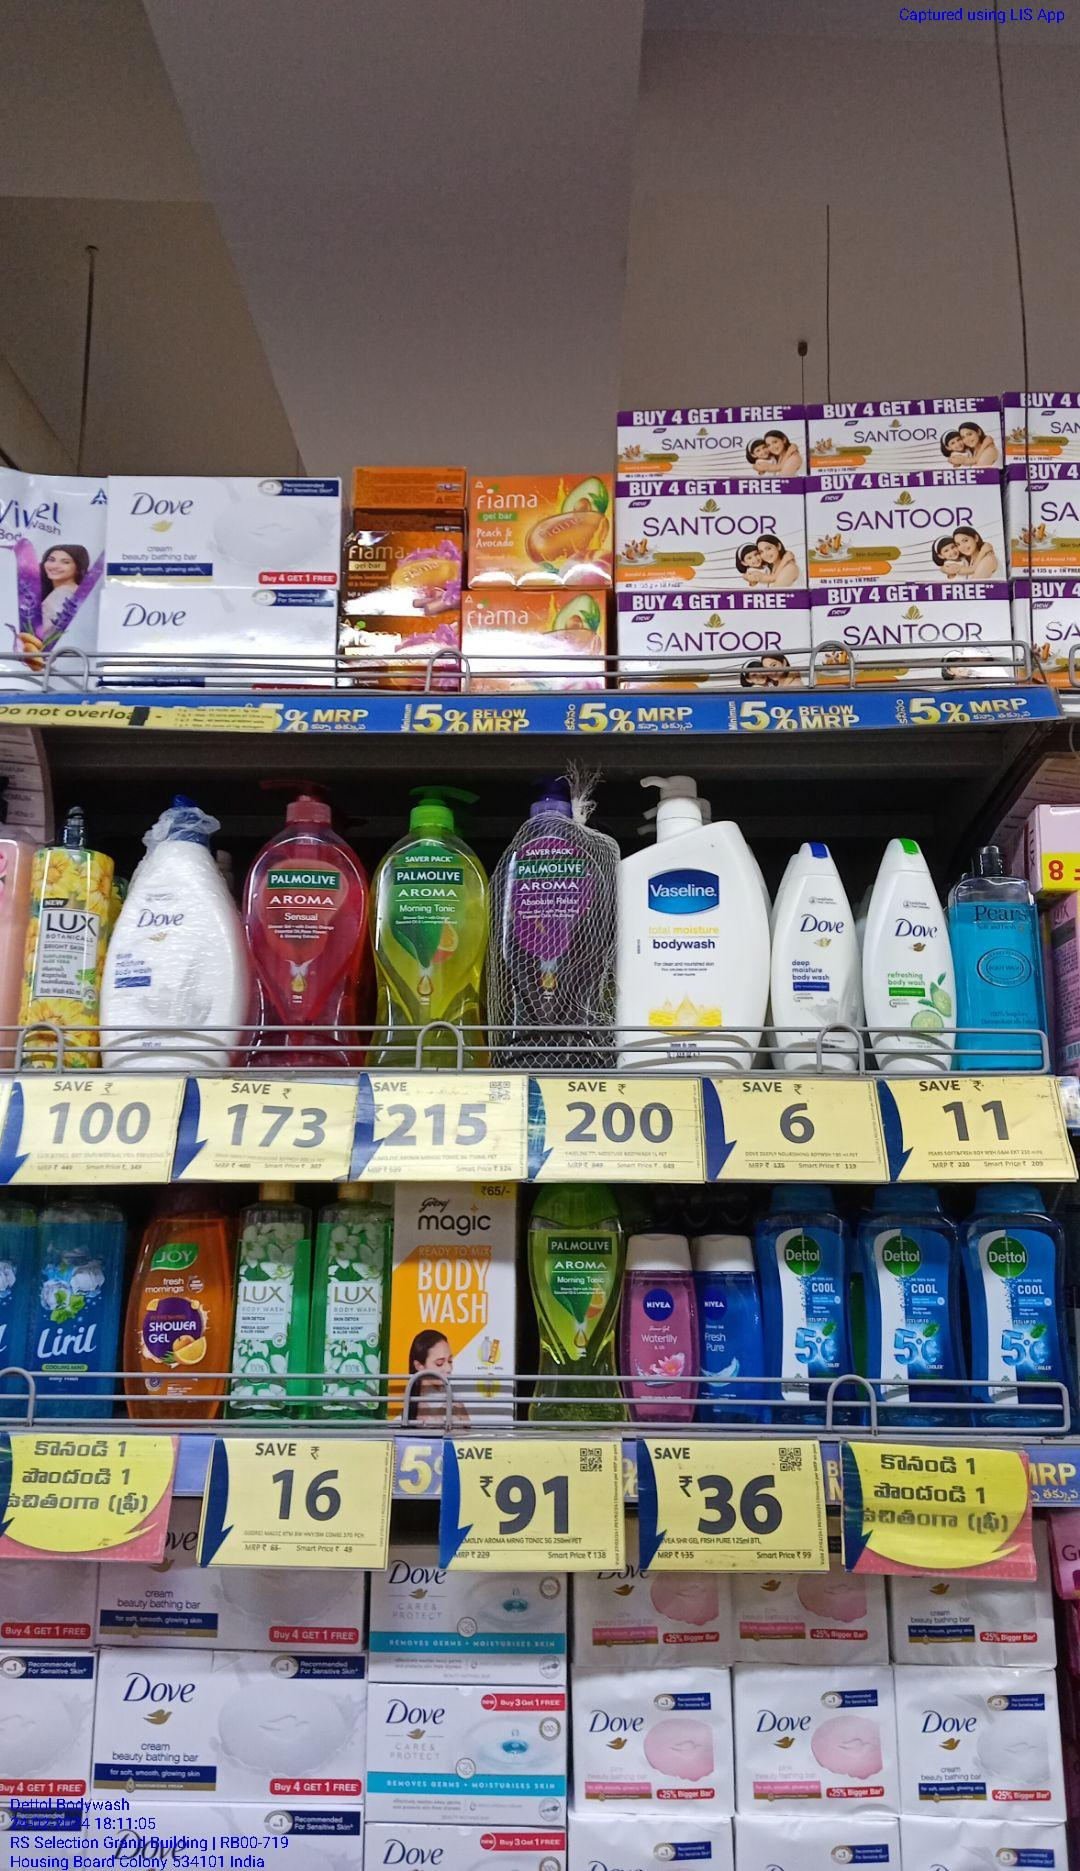Dettol_Bodywash_Cool: (964, 1185, 1072, 1429), (859, 1187, 960, 1419), (761, 1189, 855, 1425)
Dove_Deep_Moisture_Body_Wash_250ML: (773, 842, 861, 1073)
Dove_Refreshing_Body_Wash_250ML: (867, 840, 955, 1073)
Joy_Shower_Gel_Mandarin_and_Lemongrass_250ML: (127, 1185, 231, 1421)
Liril_Cooling_Mint_Body_Wash_250ML: (33, 1190, 122, 1414)
Lux_Body_Wash_Skin_Detox_Freesia_Scent_and_Alove_Vera_245ML: (237, 1185, 310, 1421), (315, 1185, 387, 1417)
Nivea_Shower_Gel_Waterlily_and_Oil_250ML: (621, 1234, 692, 1424)
Pears_Pure_Glycerin_and_Mint_Extracts_Body_Wash_250ML: (954, 844, 1048, 1070)
